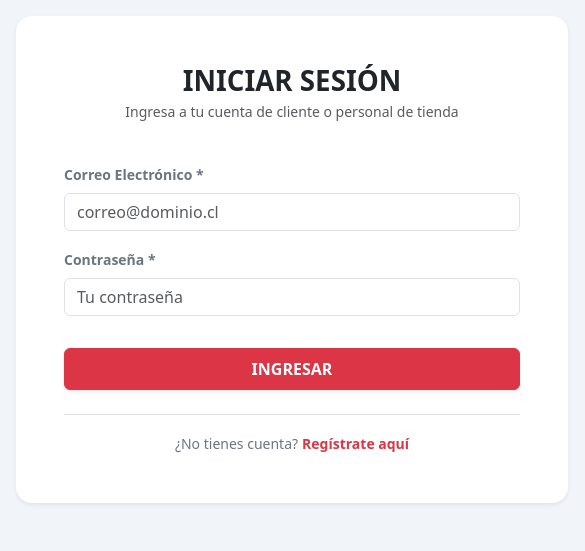
Pruebas en el componente <Login /> › debe mostrar mensaje de error interno al intentar enviar el formulario vacío
The width and height of the screenshot is (585, 551).
Click the button "INGRESAR" at [292, 369], box top-left (64, 348), bottom-right (520, 390)
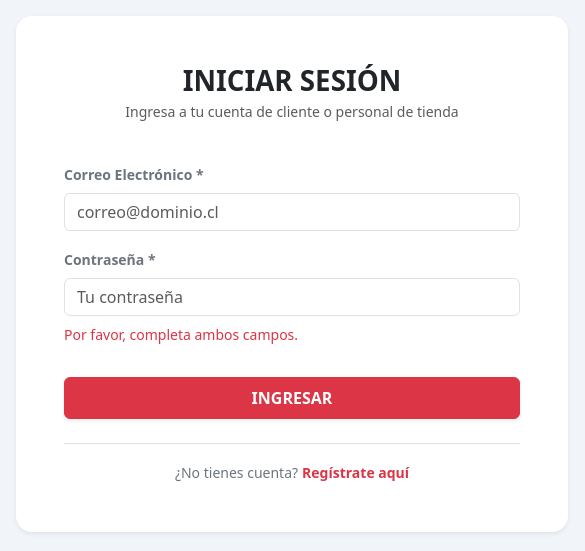
Result: the text "Por favor, completa ambos campos." is shown at top-left (64, 325), bottom-right (298, 344)
